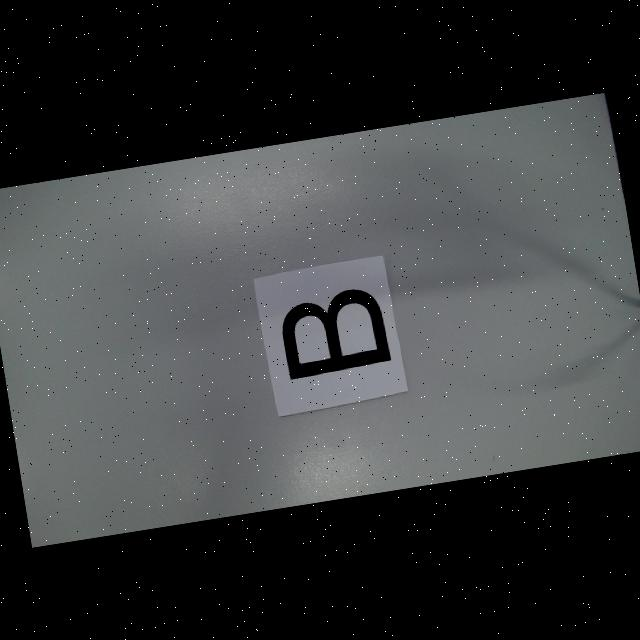FAKE: (278, 286, 392, 380)
